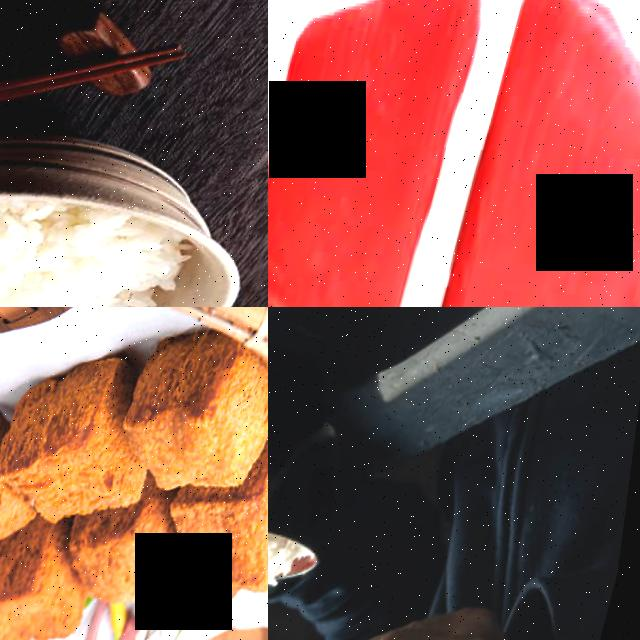tofu: (0, 346, 157, 539), (115, 325, 268, 511), (162, 485, 268, 615), (0, 530, 103, 640)
tuna: (384, 0, 640, 307)
white rice: (0, 168, 216, 307), (268, 510, 320, 625)
